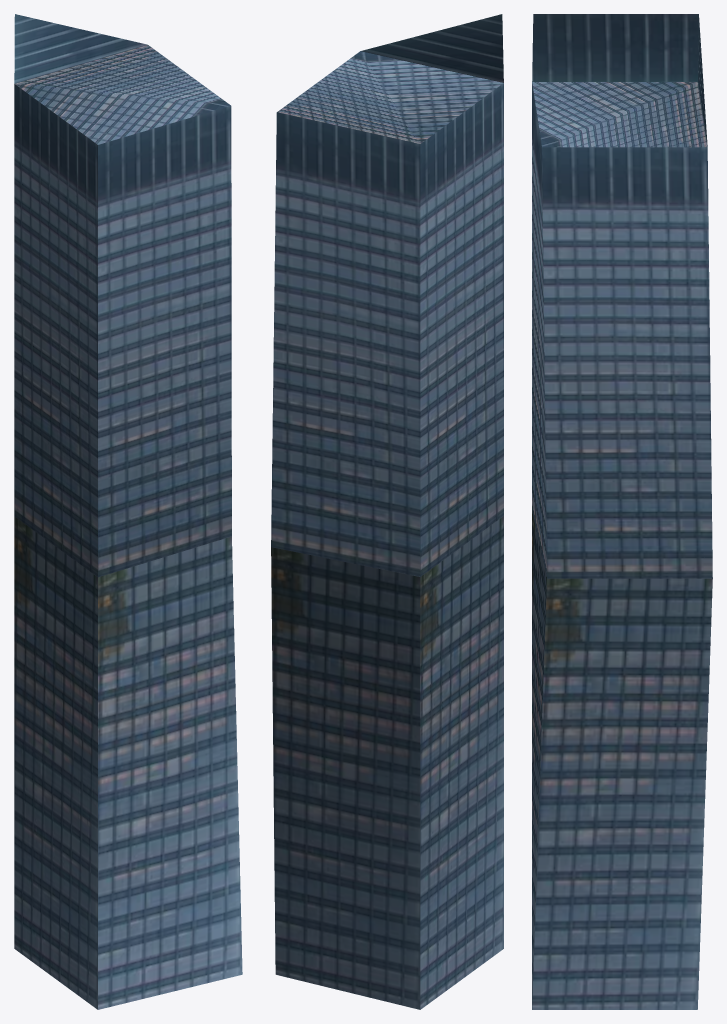
File: sky3.glb
3 renders of one model, left to right at view 1: azimuth 30°, elevation 25°; view 2: azimuth 150°, elevation 25°; view 3: azimuth 270°, elevation 25°, orthographic.
Parts seen in each view (by area): view 1: sky3; view 2: sky3; view 3: sky3.
Part boxes in pixels (box(x1,y1,x2,y2)): sky3: box(14, 14, 242, 1009); sky3: box(271, 14, 503, 1009); sky3: box(532, 14, 712, 1009).
Bounding box in the file's own units: 28.35 × 175 × 30.93.
1 material, 1 textured.
